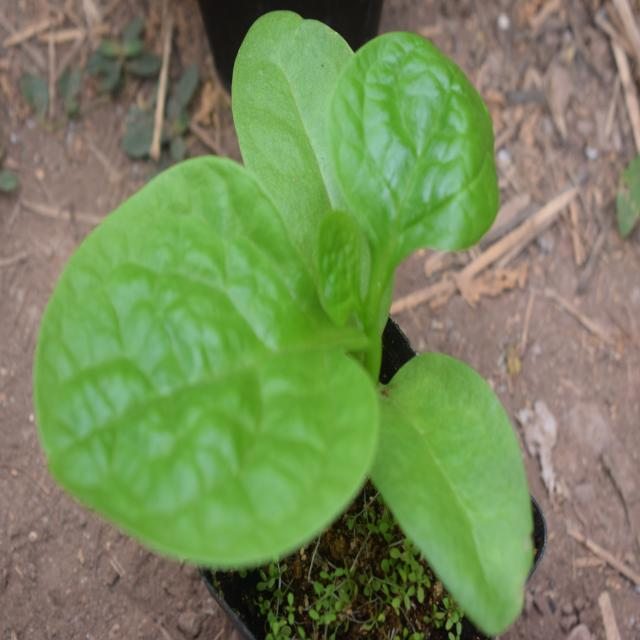Ceylon spinach: (56, 18, 539, 596)
